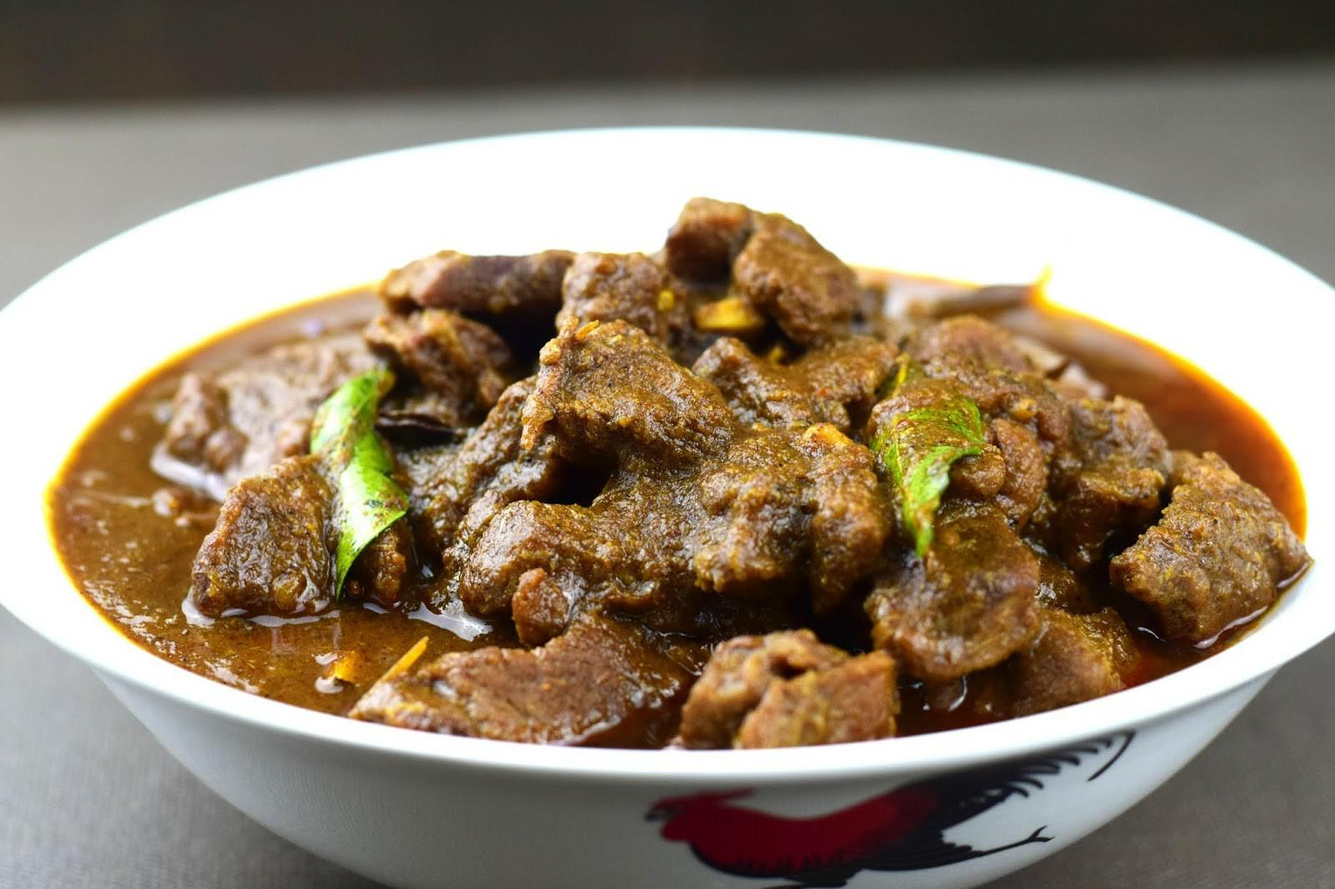MuttonCurry: (39, 185, 1312, 742)
